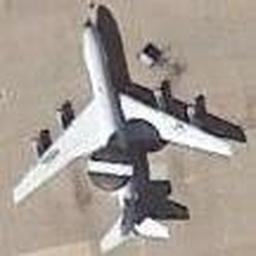Airplane: (11, 2, 247, 253)
